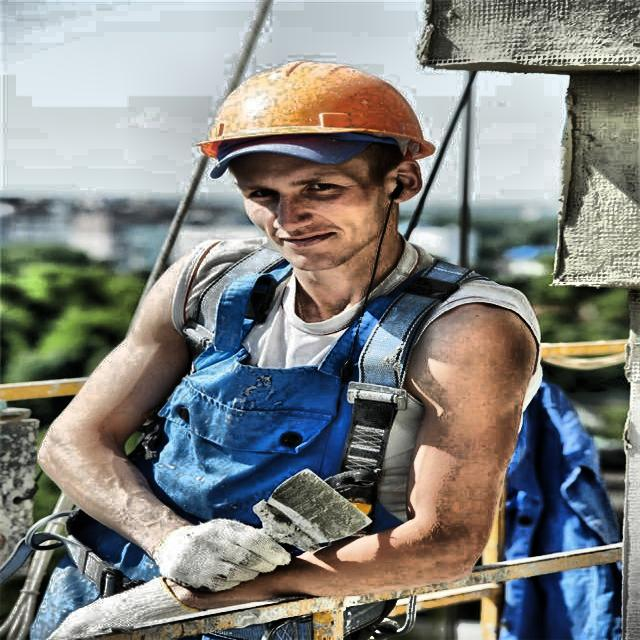helmet: (182, 35, 466, 284)
